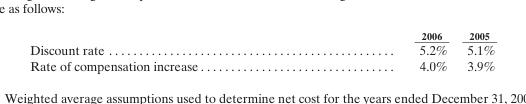table: (29, 29, 494, 72)
table column: (29, 29, 308, 72), (308, 29, 456, 72), (456, 29, 494, 72)
table column header: (29, 29, 494, 41)
table row: (29, 41, 494, 57), (29, 57, 494, 72), (29, 29, 494, 41)
